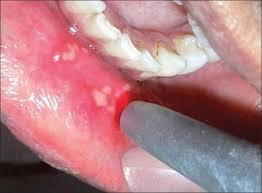Discoloration: (131, 34, 200, 58)
Ulcer: (38, 32, 90, 73), (84, 74, 134, 114)
